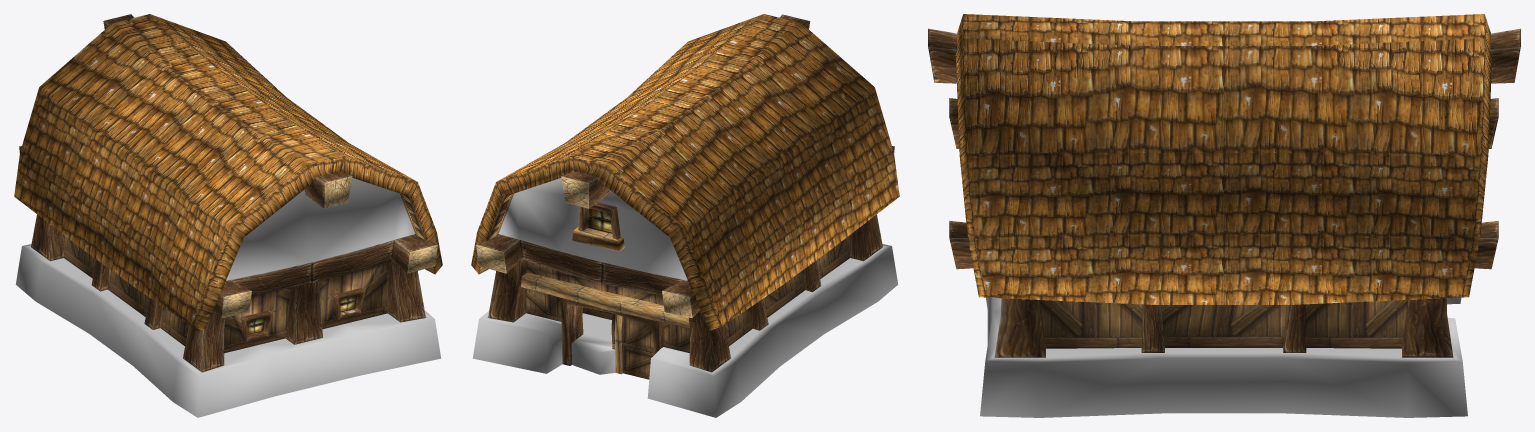
The model's file is oldstrat_barn.obj.
3 renders of one model, left to right at view 1: azimuth 30°, elevation 25°; view 2: azimuth 150°, elevation 25°; view 3: azimuth 270°, elevation 25°, orthographic. The views are drawn at different scales.
Visible parts, largest first — view 1: barn_exterior01; view 2: barn_exterior01, visblock_entrance; view 3: barn_exterior01.
Boxes of the visible parts, x1,y1,x2,y2 form: barn_exterior01: (14,14,442,417); barn_exterior01: (471,14,899,417); visblock_entrance: (574,306,612,348); barn_exterior01: (928,14,1520,417).
Bounding box in the file's own units: 24.41 × 21.52 × 37.22.
